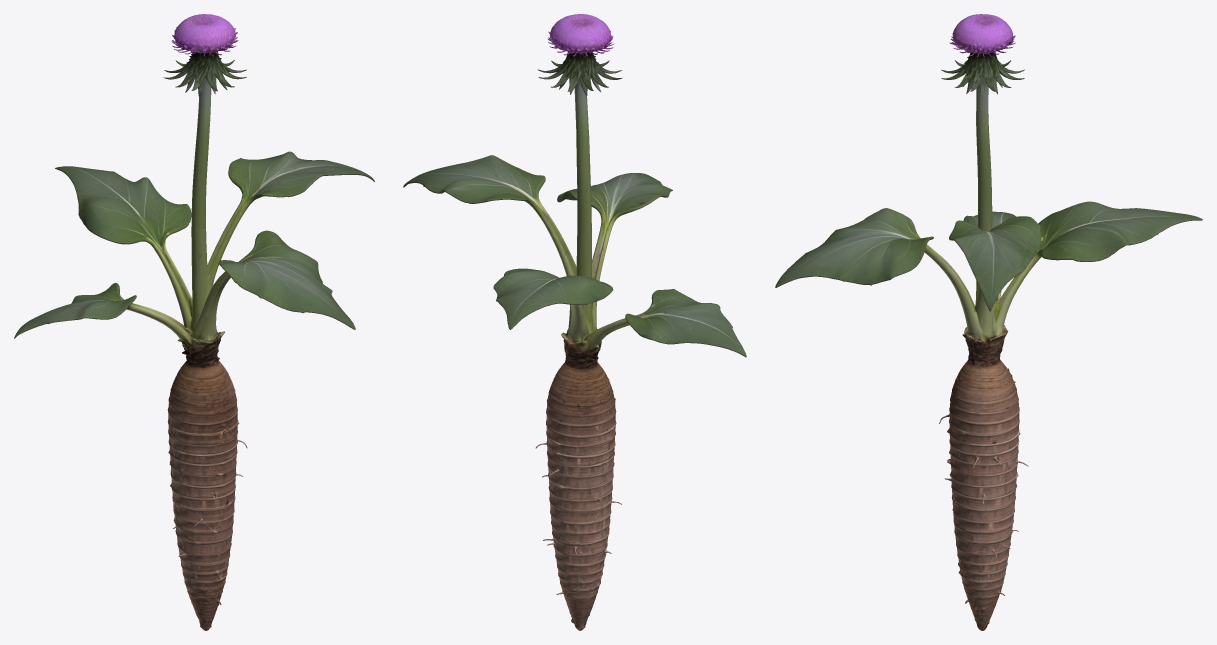
Rendered from yunmuxiang.glb.
The picture shows the model from 3 angles, left to right: view 1: azimuth 30°, elevation 25°; view 2: azimuth 150°, elevation 25°; view 3: azimuth 270°, elevation 25°; orthographic projection.
Parts seen in each view (by area): view 1: node_0; view 2: node_0; view 3: node_0.
Part boxes in pixels (box(x1,y1,x2,y2)): node_0: box(14, 14, 374, 630); node_0: box(403, 14, 746, 630); node_0: box(775, 14, 1202, 630).
Bounding box in the file's own units: 0.7241 × 1.2 × 0.7625.
Materials: 1 (1 with a texture image).
